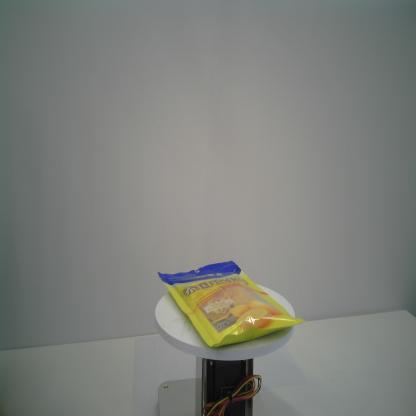Dried Fruit: (158, 260, 306, 348)
